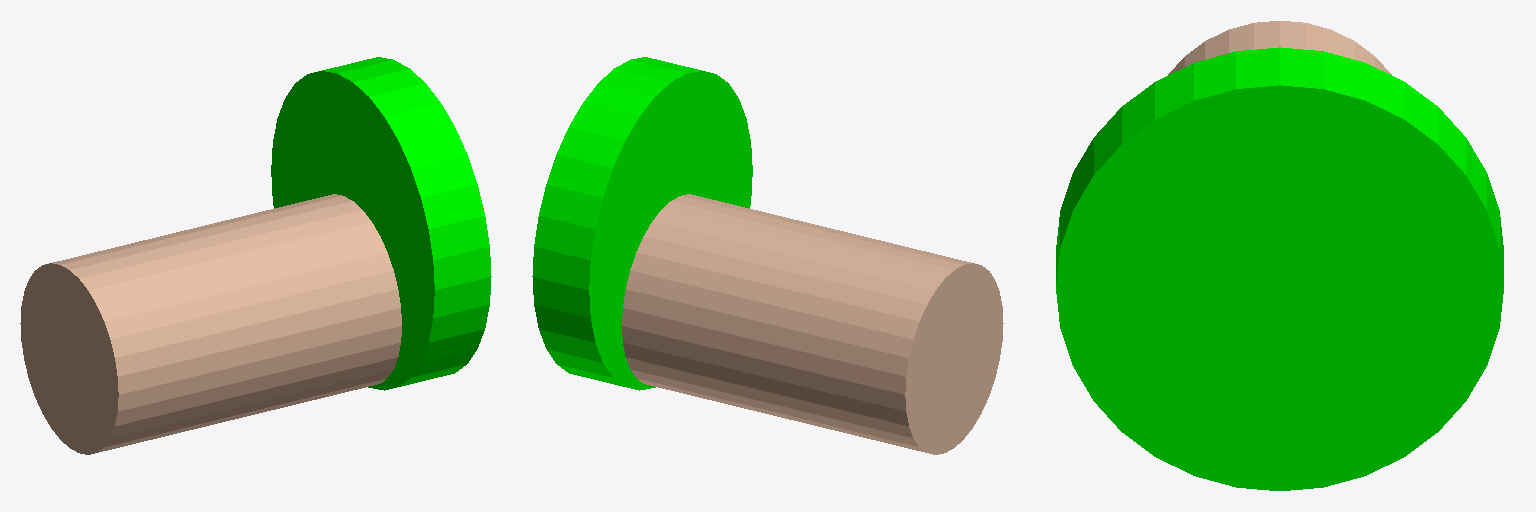
robot.urdf — hook:
<?xml version="1.0" ?>
<robot name="hook">
  <dynamics damping="1.0" />
  <contact>
    <restitution value="0.01"/>
    <lateral_friction value="0.5"/>
    <rolling_friction value="0.5"/>
    <contact_cfm value="0.0"/>
    <contact_erp value="1.0"/>
  </contact>
  <material name="green">
    <color rgba="0 1 0 1"/>
  </material>
  <material name="peach">
    <color rgba="0.9 0.75 0.65 1"/>
  </material>
  <link name="world"/>
  <joint name="robot_to_world" type="fixed">
    <parent link="world"/>
    <child link="hook_stem"/>
    <origin xyz="0 0 0.01" rpy="0 1.5707963268 0"/>
  </joint>
  <link name="hook_stem">
    <inertial>
      <origin rpy="0 0 0" xyz="0 0 0"/>
      <mass value="0.01"/>
      <inertia ixx="0.0001" ixy="0" ixz="0" iyy="0.0001" iyz="0" izz="0.0001"/>
    </inertial>
    <visual>
      <origin rpy="0 0 0" xyz="0 0 0"/>
      <geometry>
        <cylinder length="0.1" radius="0.03"/>
      </geometry>
      <material name="peach"/>
    </visual>
    <collision>
<origin rpy="0 0 0" xyz="0 0 0"/>
      <geometry>
        <cylinder length="0.1" radius="0.03"/>
      </geometry>
      <material name="peach"/>
    </collision>
  </link>
  <joint name="stem_to_head" type="fixed">
    <parent link="hook_stem"/>
    <child link="hook_head"/>
    <origin xyz="-0.02 0 0.06" rpy="0 0 0"/>
  </joint>
  <link name="hook_head">
    <inertial>
      <origin rpy="0 0 0" xyz="0 0 0"/>
      <mass value="0.01"/>
      <inertia ixx="0.0001" ixy="0" ixz="0" iyy="0.0001" iyz="0" izz="0.0001"/>
    </inertial>
    <visual>
        <origin rpy="0 0 0" xyz="0 0 0"/>
      <geometry>
        <cylinder length="0.02" radius="0.05"/>
      </geometry>
      <material name="green"/>
    </visual>
    <collision>
        <origin rpy="0 0 0" xyz="0 0 0"/>
      <geometry>
        <cylinder length="0.02" radius="0.05"/>
      </geometry>
      <material name="green"/>
    </collision>
  </link>
</robot>

--- Facts derived from the render (not from the file) ---
The picture shows the robot from 3 angles, left to right: view 1: azimuth 30°, elevation 25°; view 2: azimuth 150°, elevation 25°; view 3: azimuth 270°, elevation 25°; orthographic projection.
Model hook with 3 links and 2 joints (2 fixed), rooted at world, posed every joint at zero.
Links seen in each view (by area): view 1: hook_stem, hook_head; view 2: hook_stem, hook_head; view 3: hook_head, hook_stem.
Boxes of the visible links, bbox=[...] form: hook_stem: bbox=[20, 194, 401, 454]; hook_head: bbox=[271, 57, 491, 390]; hook_stem: bbox=[622, 194, 1003, 454]; hook_head: bbox=[532, 57, 752, 390]; hook_head: bbox=[1056, 47, 1503, 490]; hook_stem: bbox=[1168, 21, 1391, 74].
Bounding box of the posed robot: 0.12 × 0.1 × 0.1 m (x, y, z).
Geometry: primitives only (box / cylinder / sphere), no mesh files.